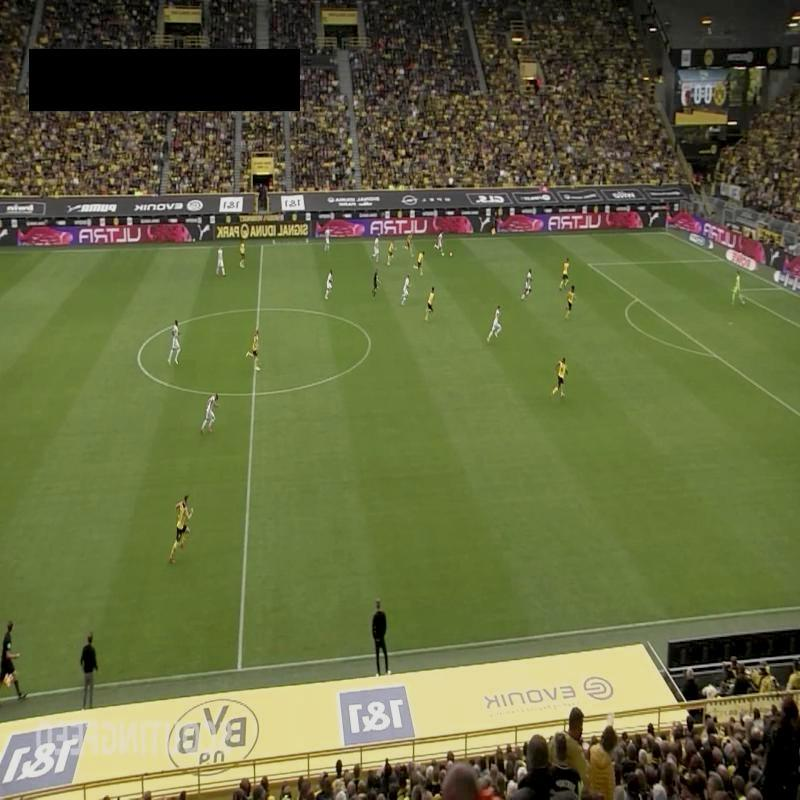1: (658, 226, 672, 240)
10: (630, 292, 644, 306)
11: (706, 348, 727, 365)
13: (256, 238, 270, 251)
14: (252, 302, 266, 316)
15: (247, 385, 261, 399)
16: (231, 658, 247, 678)
2: (716, 254, 731, 268)
3: (774, 282, 789, 295)
7: (728, 284, 742, 298)
9: (582, 257, 596, 271)
c: (130, 342, 146, 368), (362, 333, 378, 350)
